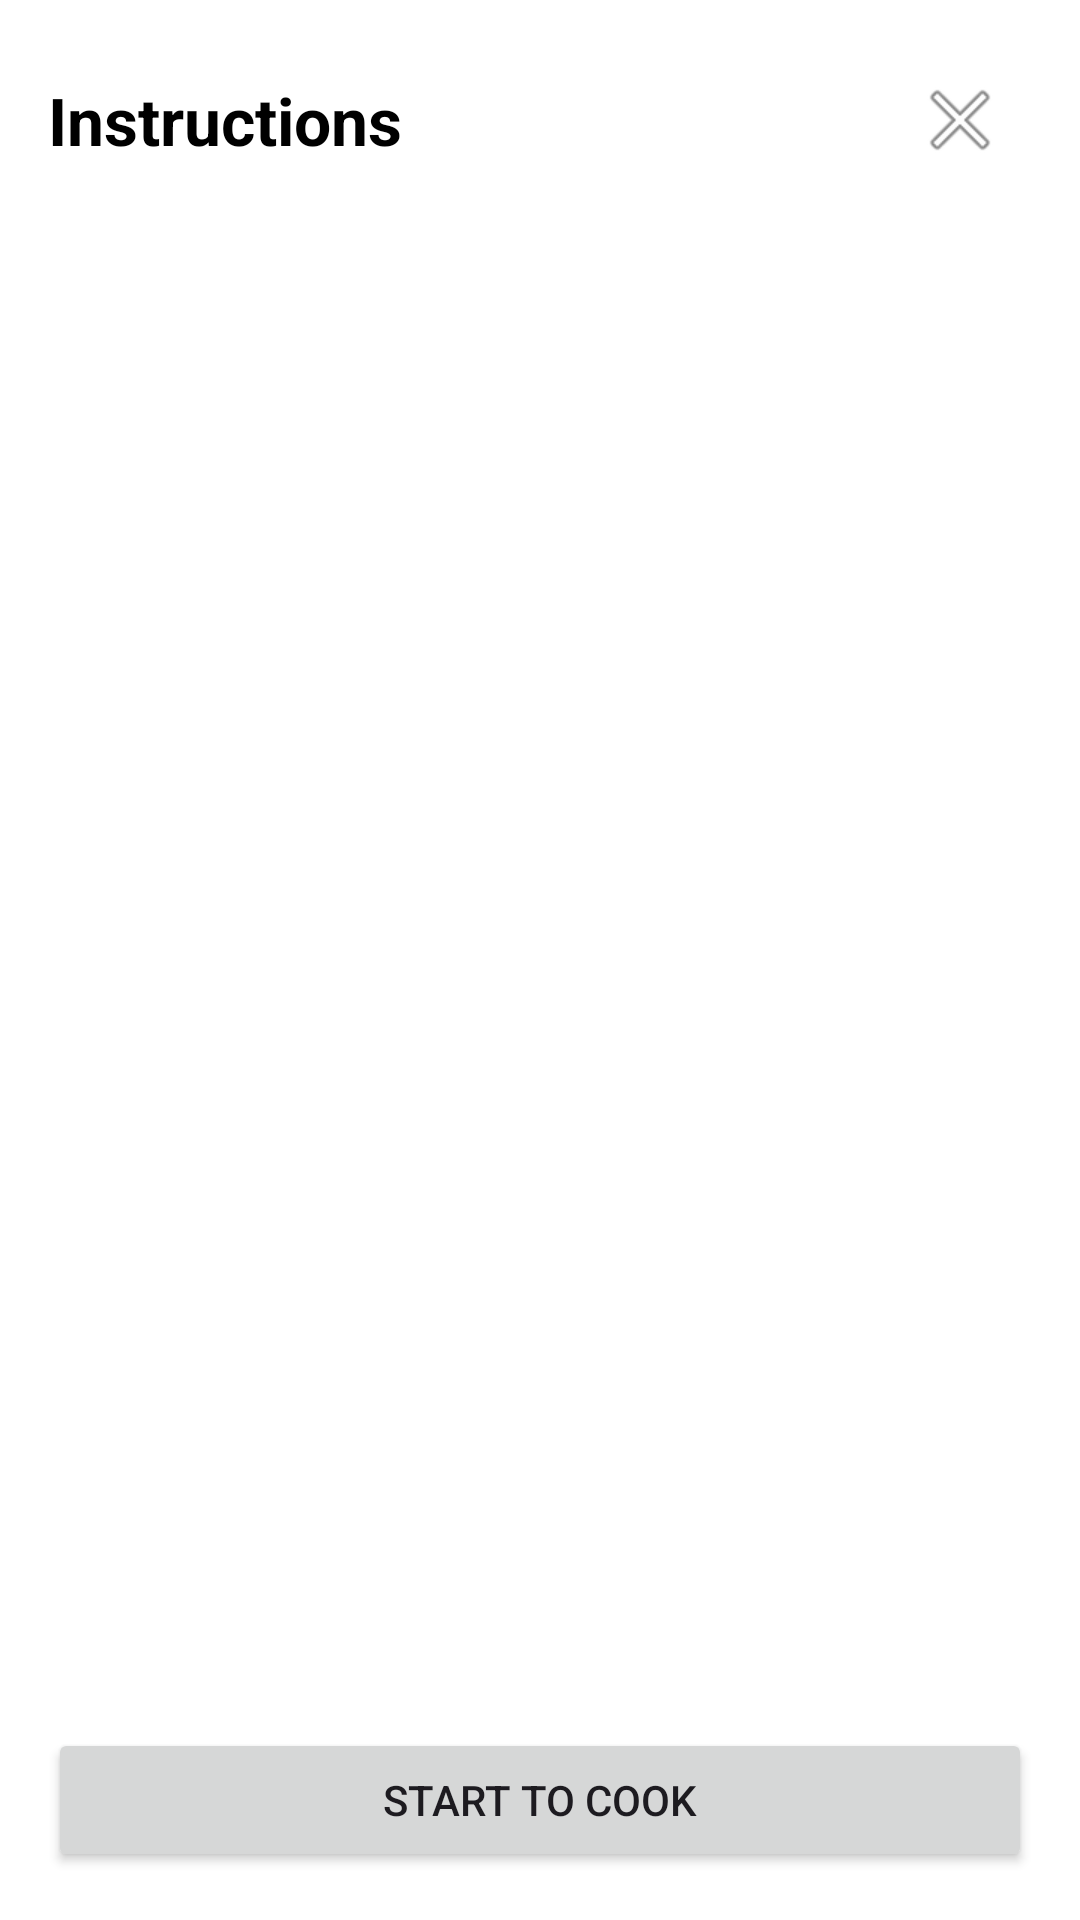

Icons on this 1080 × 1920 Android screen, each with the point to tap as [x,y]:
Close: [960,120]
